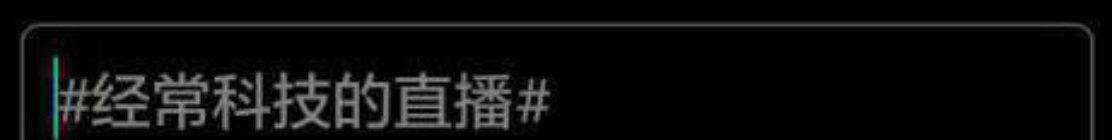EditText: (1, 1, 1111, 139)
